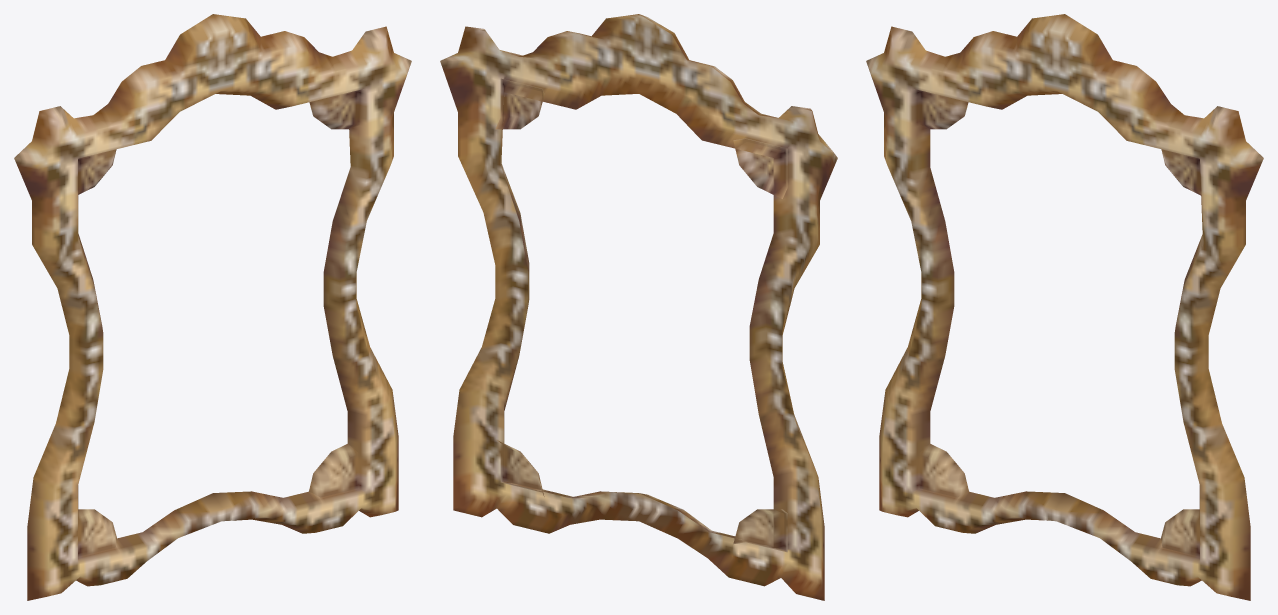
The model's file is mirr38-1.glb.
3 views of the same model, side by side, from view 1: azimuth 30°, elevation 25°; view 2: azimuth 150°, elevation 25°; view 3: azimuth 330°, elevation 25° (orthographic).
Visible parts, largest first — view 1: mirr38_1; view 2: mirr38_1; view 3: mirr38_1.
Boxes of the visible parts, box(x1,y1,x2,y2) form: mirr38_1: box(14, 14, 411, 600); mirr38_1: box(440, 14, 837, 600); mirr38_1: box(866, 14, 1263, 600).
Bounding box in the file's own units: 266 × 346 × 10.
Materials: 1 (1 with a texture image).
